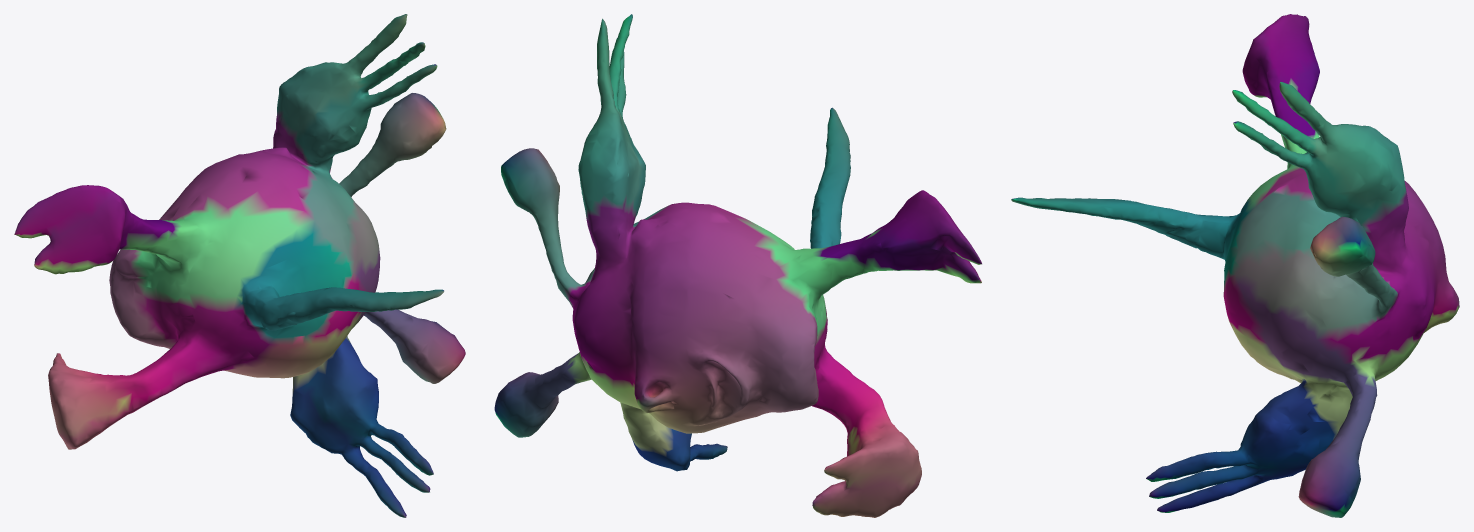
The model's file is alien-1.obj.
3 views of the same model, side by side, from view 1: azimuth 30°, elevation 25°; view 2: azimuth 150°, elevation 25°; view 3: azimuth 270°, elevation 25° (orthographic). The views are drawn at different scales.
Bounding box in the file's own units: 1.41 × 1.31 × 1.16.
